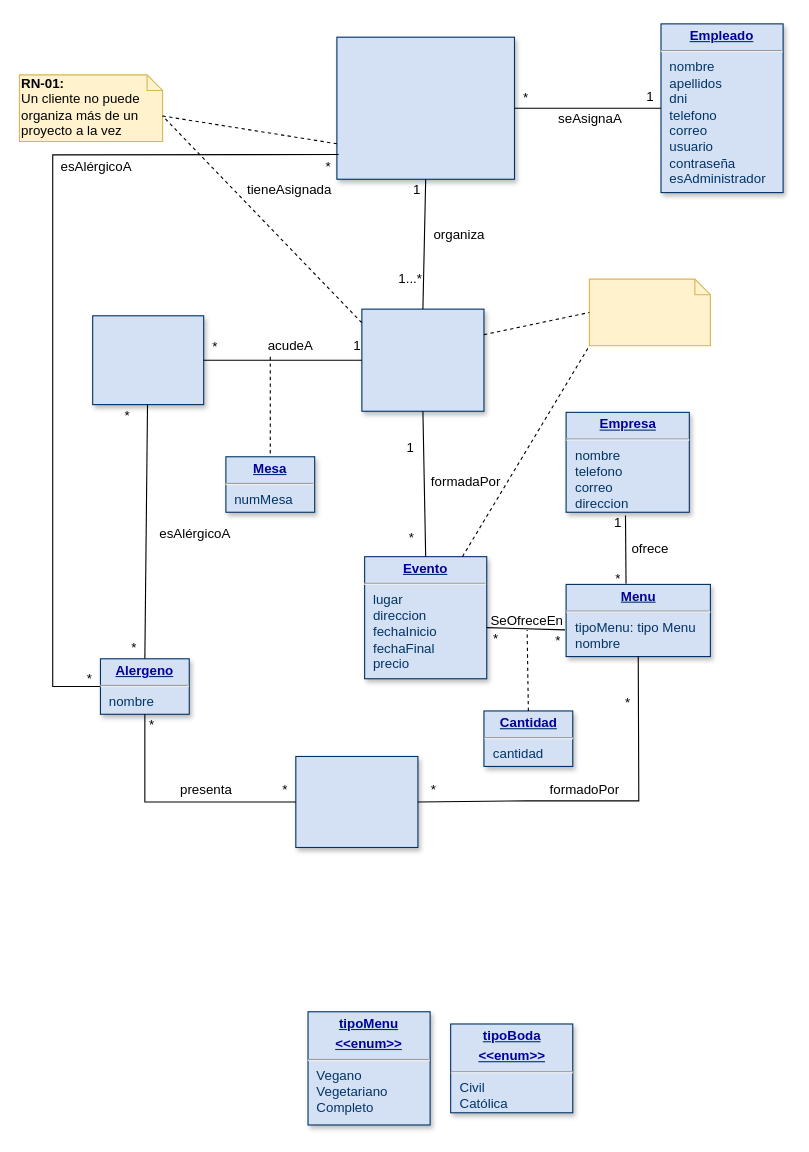
The diagram is 809 pixels wide and 1152 high, and some of its shapes have lost their labels. The centre of each missing label's shape, as x and y in pixels:
"Cliente nombre apellidos dni telefono correo direccion" goes at (426,109).
"Invitado nombre apellidos direccion" goes at (148,361).
"Plato nombre precio descripcion [0...1]" goes at (357,803).
"Proyecto fechaInicio fechaFinal tipoBoda presupuesto" goes at (423,361).
"RN-02: Los eventos de un mismo proyecto no pueden solaparse" goes at (649,312).
